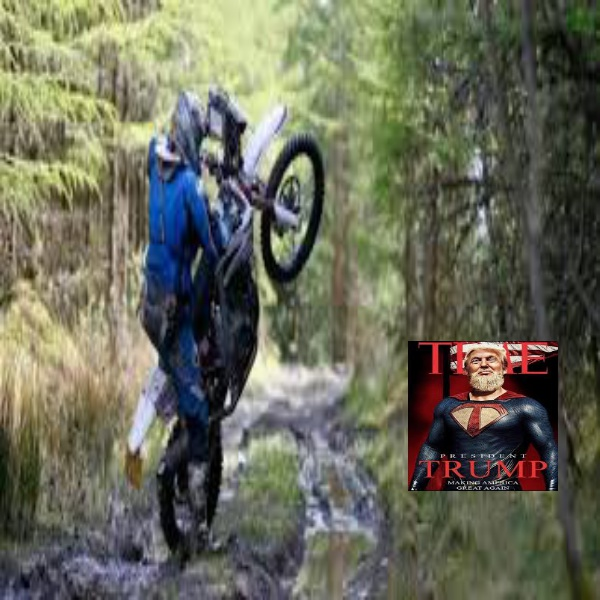time_cover: (396, 321, 565, 500)
